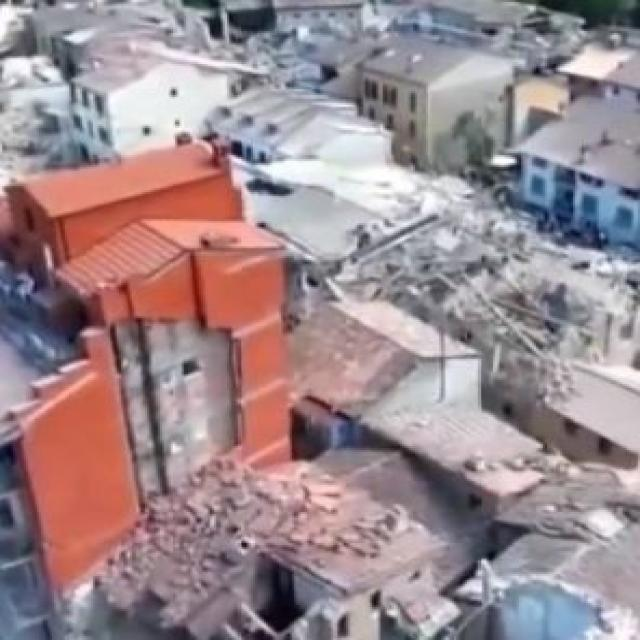collapsed_building: (268, 161, 638, 483)
